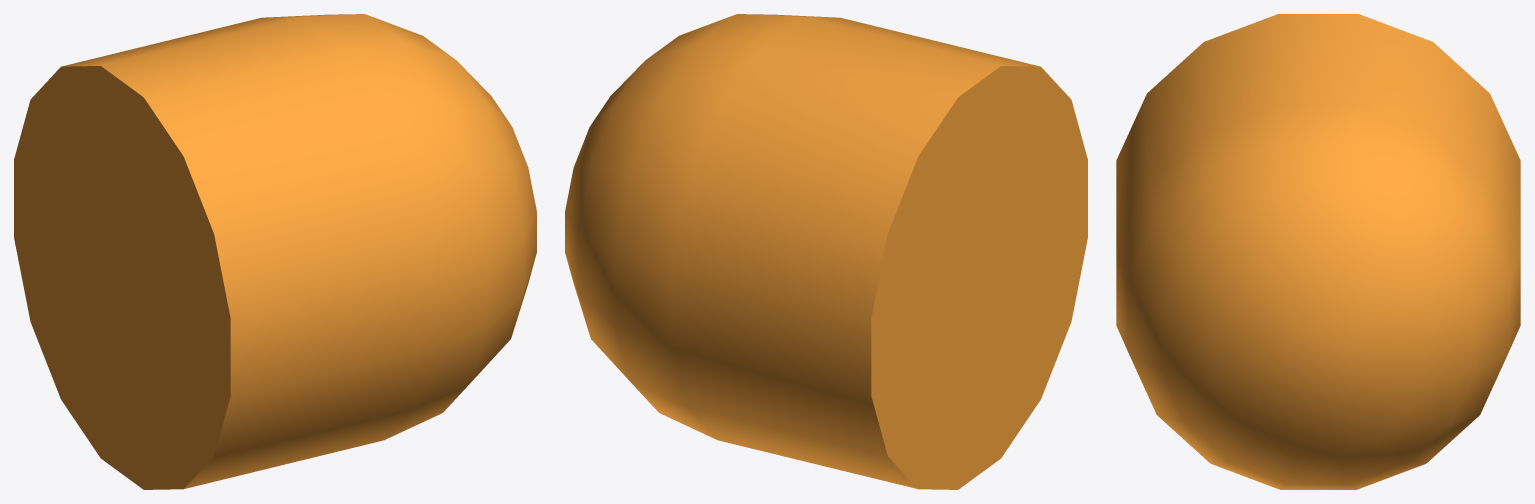
File: bala.fbx
3 views of the same model, side by side, from view 1: azimuth 30°, elevation 25°; view 2: azimuth 150°, elevation 25°; view 3: azimuth 270°, elevation 25° (orthographic). The views are drawn at different scales.
Visible parts, largest first — view 1: Cylinder; view 2: Cylinder; view 3: Cylinder.
Part boxes in pixels (x1,y1,x2,y2): Cylinder: (14,14,536,489); Cylinder: (565,14,1087,489); Cylinder: (1116,14,1520,489).
Size of the model in its own units: 9.26 by 9.08 by 9.08.
